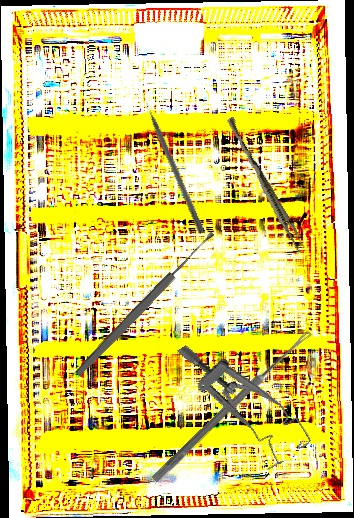Pusher: (139, 91, 207, 235)
Speculum: (174, 315, 315, 479)
Surgical Spoon: (151, 328, 313, 484), (73, 229, 218, 379)
Tissue Forceps: (221, 116, 309, 253)
